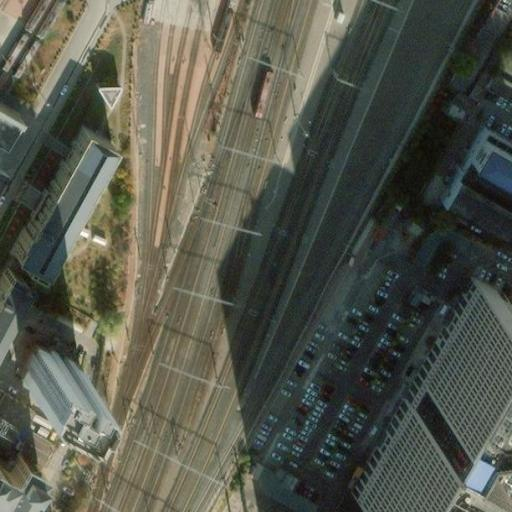building: (353, 281, 512, 512), (6, 121, 109, 268), (18, 330, 82, 392), (0, 440, 45, 493), (481, 24, 512, 91), (477, 104, 512, 150)
